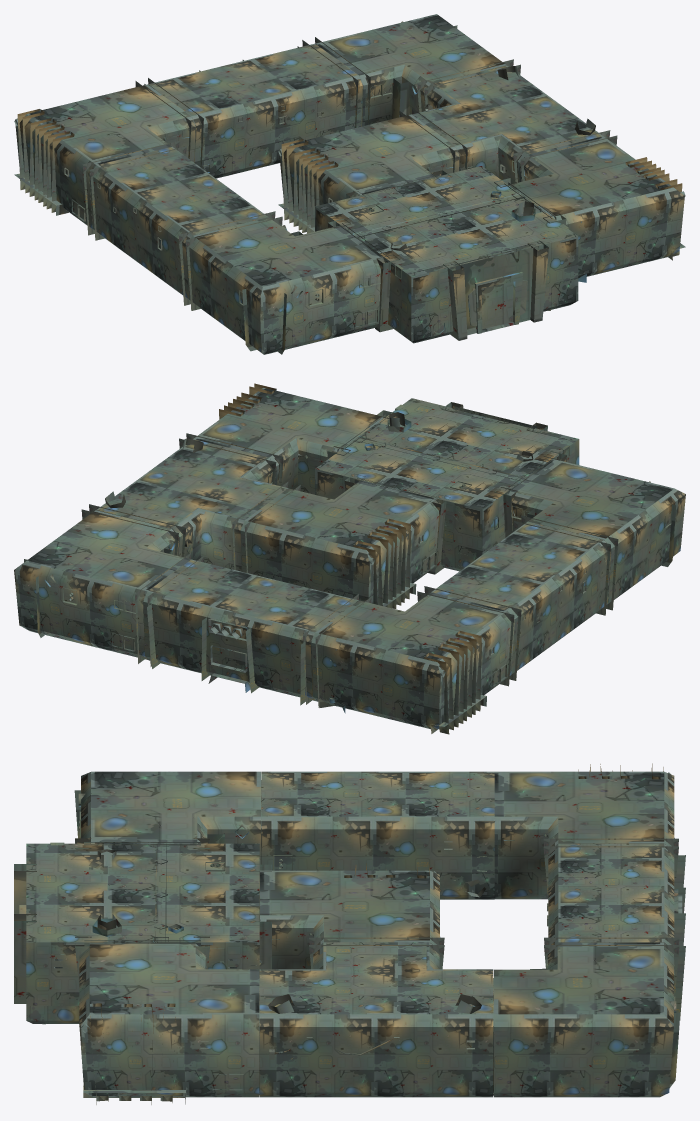
The model's file is Combined_Mesh_root_scene__20_a4a1e6c2__zombies2_diffuse_02_6de118bf_c1f257.obj.
The picture shows the model from 3 angles, top to bottom: view 1: azimuth 30°, elevation 25°; view 2: azimuth 150°, elevation 25°; view 3: azimuth 270°, elevation 25°; orthographic projection. The views are drawn at different scales.
Bounding box in the file's own units: 51.83 × 9.64 × 57.56.
132 materials, 132 textured.
